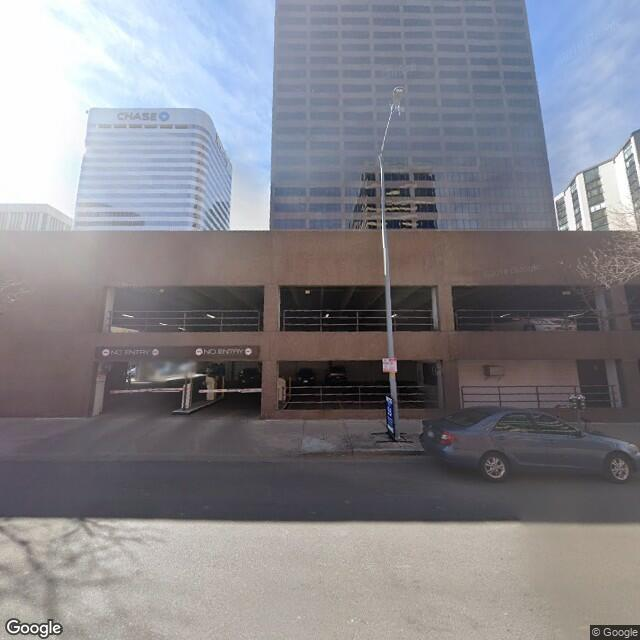lamp: (371, 87, 419, 432)
